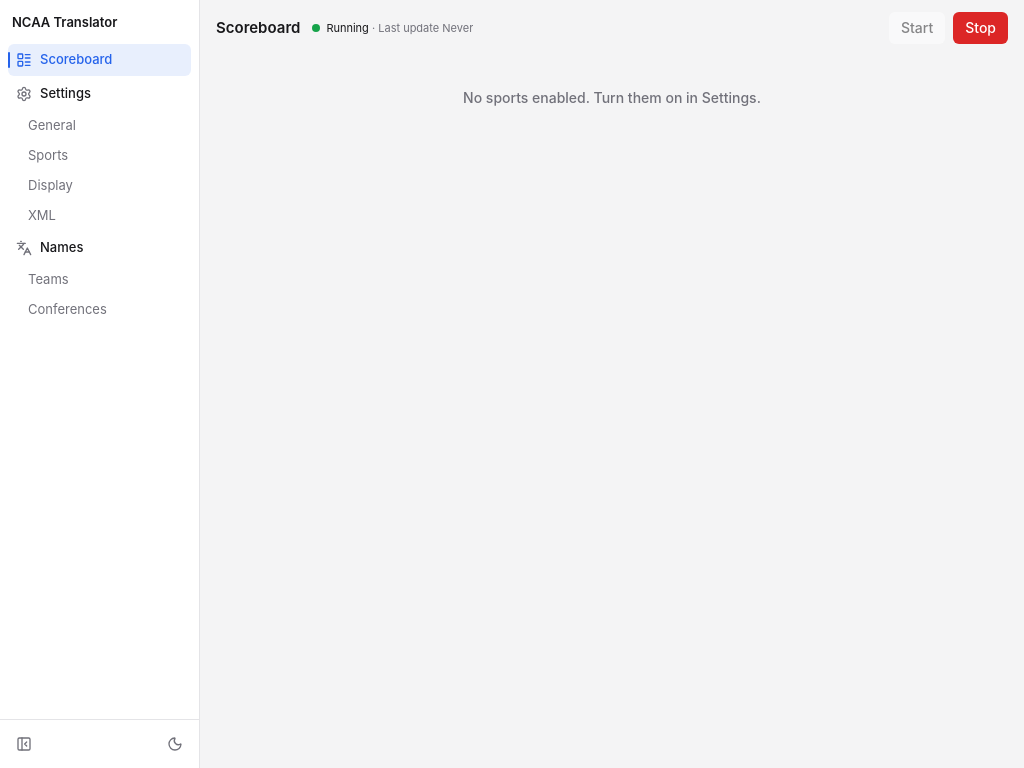
Test: App › toggles collapsed sidebar state from the collapse button
This screenshot has width=1024, height=768.
Expected: the button "General" is shown, 8,112 -> 191,140
What coordinates should you click on to do the following:
click the button named "Collapse sidebar"
I would click on:
 (24, 744)
Its box is 8,728 -> 40,760.
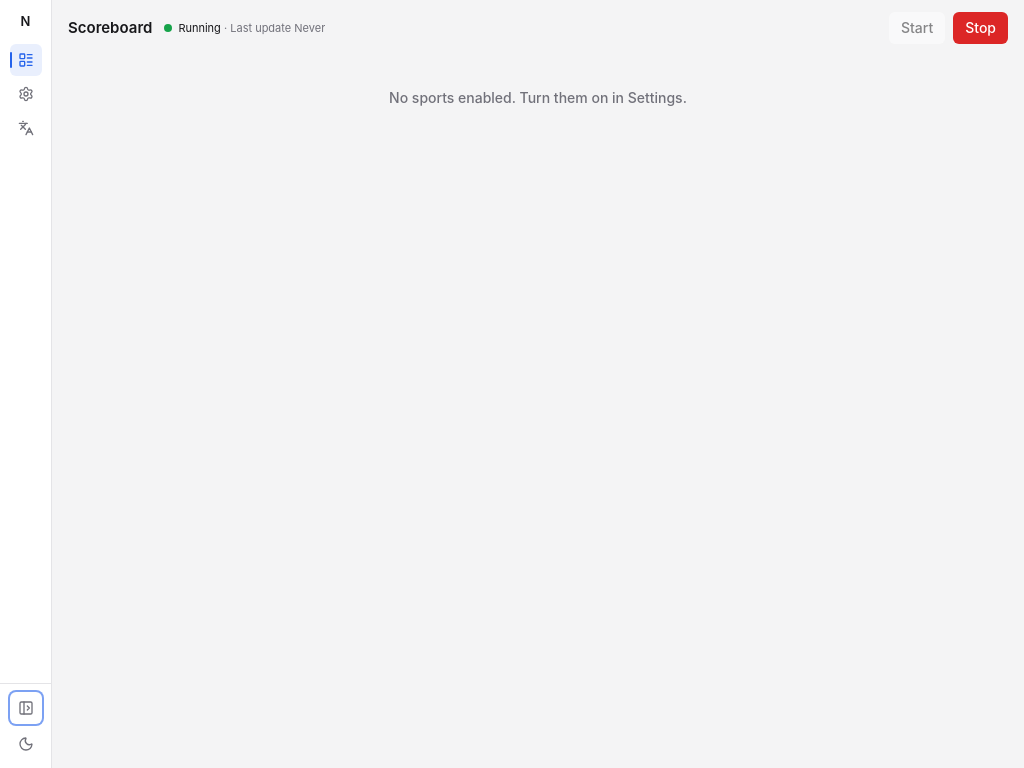
Expected: the button named "Scoreboard" is shown, 10,44 -> 42,76
Expected: the button "General" is gone
Expected: the button named "Expand sidebar" is shown, 10,692 -> 42,724
